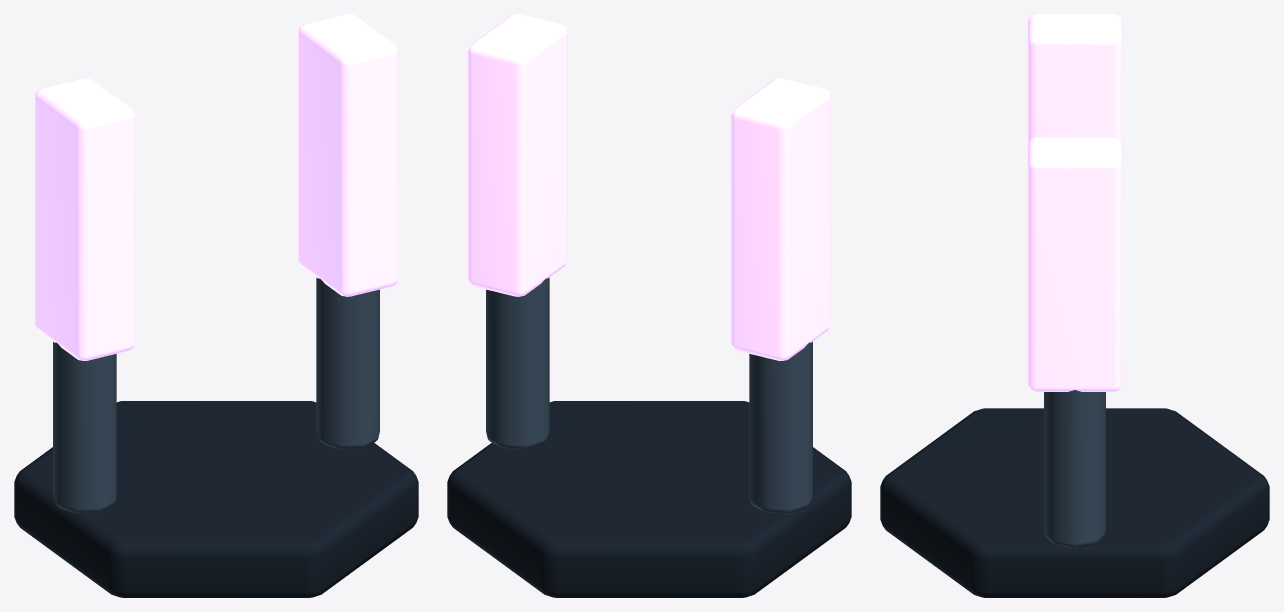
Rendered from enemy_role_disruptor.fbx.
3 views of the same model, side by side, from view 1: azimuth 30°, elevation 25°; view 2: azimuth 150°, elevation 25°; view 3: azimuth 270°, elevation 25° (orthographic). The views are drawn at different scales.
Visible parts, largest first — view 1: enemy_role_disruptor_Geometry; view 2: enemy_role_disruptor_Geometry; view 3: enemy_role_disruptor_Geometry.
Part boxes in pixels (x1,y1,x2,y2): enemy_role_disruptor_Geometry: (14,14,418,597); enemy_role_disruptor_Geometry: (447,14,851,597); enemy_role_disruptor_Geometry: (880,14,1269,597).
Size of the model in its own units: 0.415 by 0.57 by 0.4527.
